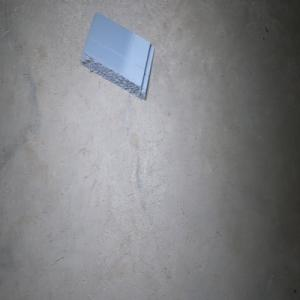PlasticPart: (79, 12, 154, 100)
